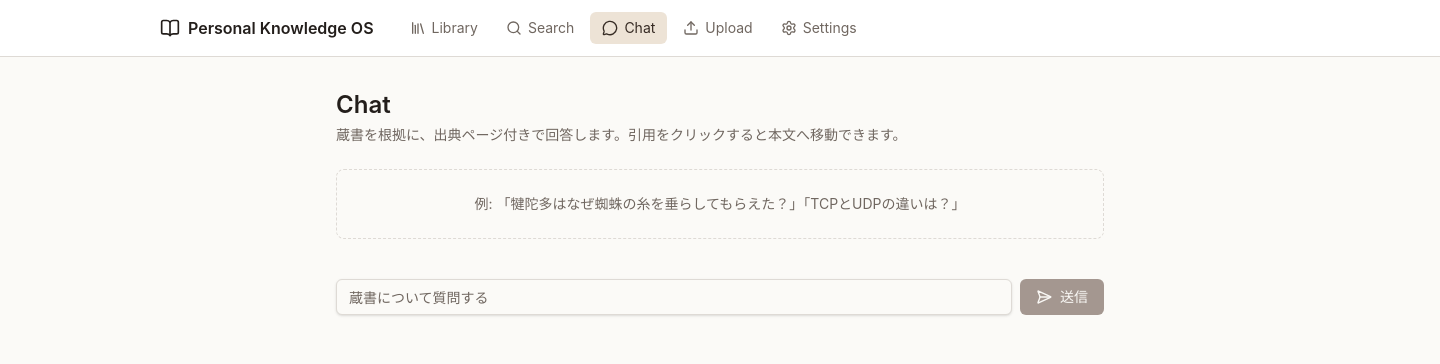
it: ChatPage › 質問を送るとストリーミング回答とcitationリンクを表示する
The image size is (1440, 364).
In the field labelled "質問": (674,297) left=336, top=279, right=1012, bottom=315, type "犍陀多は何をした？"
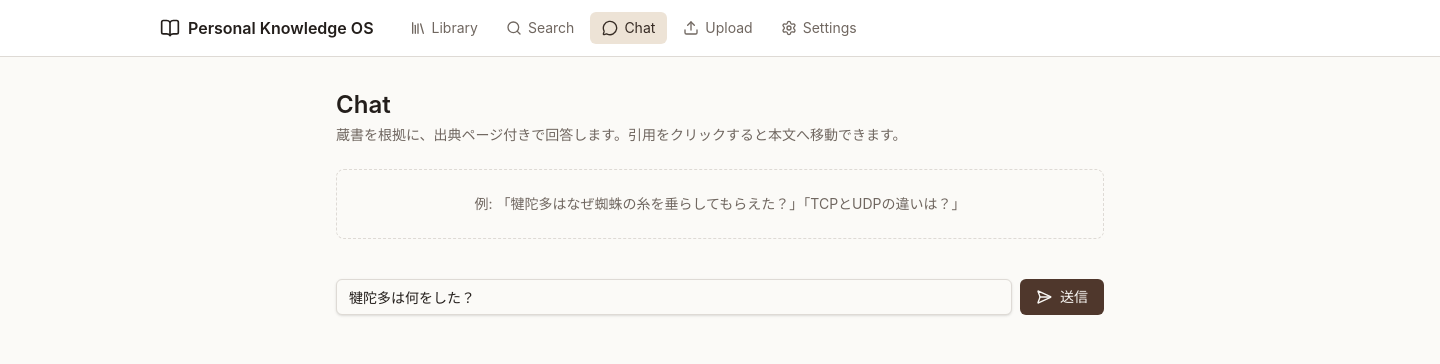
Click the button "送信": (1062,297) left=1020, top=279, right=1104, bottom=315
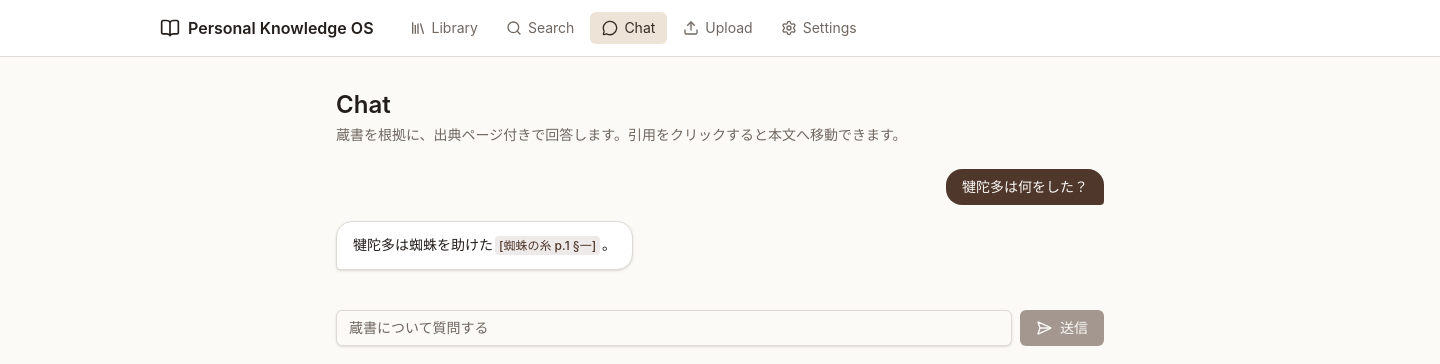
Now the text "犍陀多は何をした？" is shown, box left=946, top=169, right=1104, bottom=205
